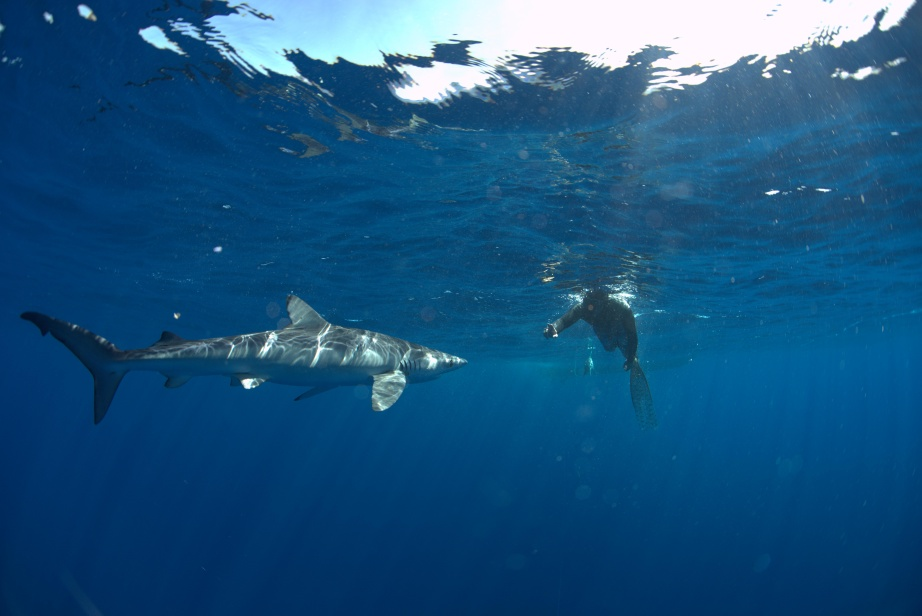Azul: (13, 288, 486, 442)
